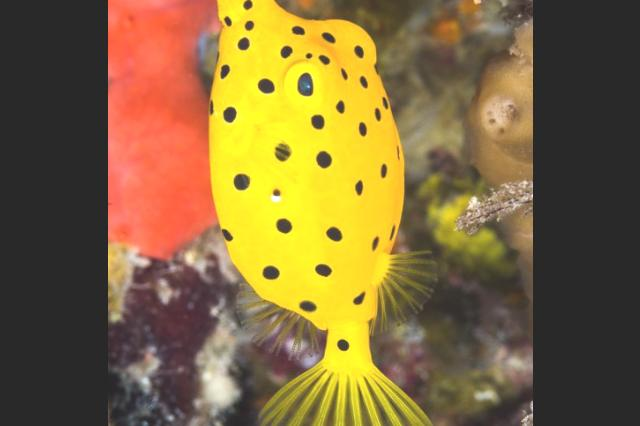Mulut: (184, 0, 271, 26)
Sirip Ekor: (239, 354, 450, 426)
